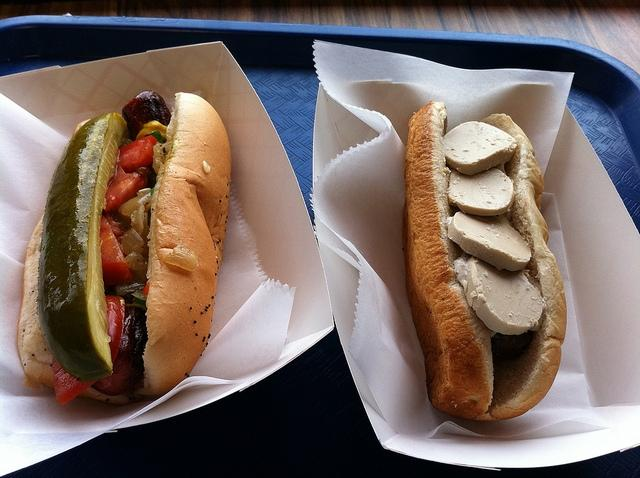tomato: (52, 296, 124, 406), (99, 216, 133, 285), (105, 164, 149, 212), (116, 134, 159, 171)
